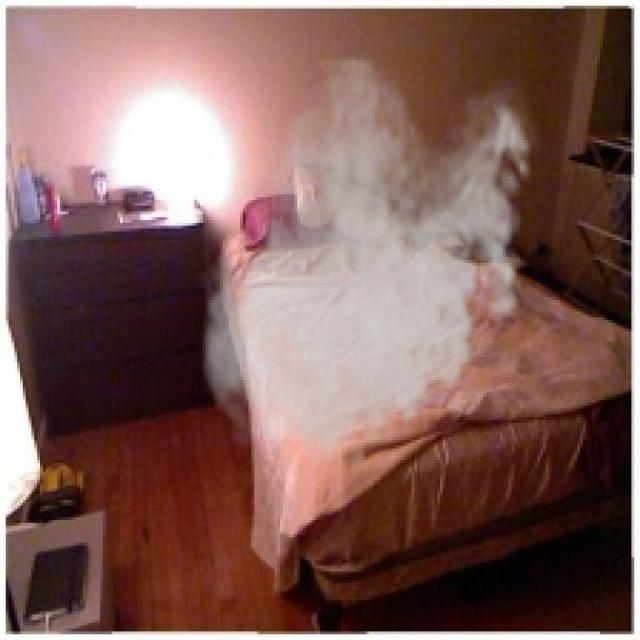smoke: (194, 54, 543, 480)
